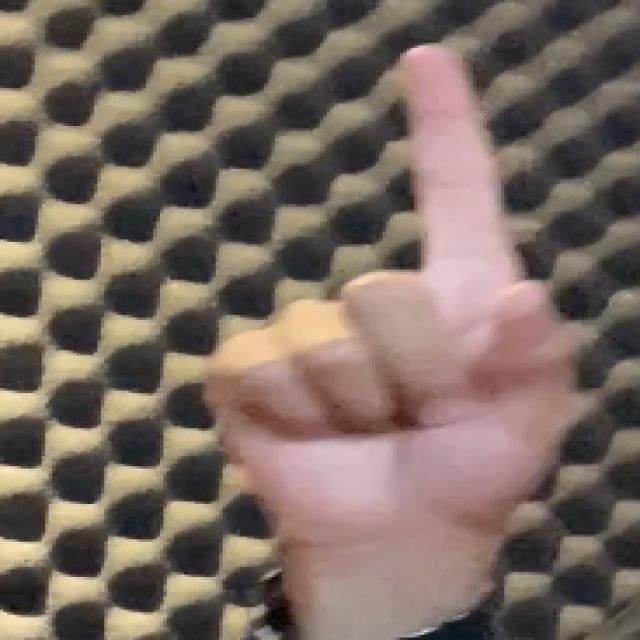Z: (189, 23, 601, 585)
